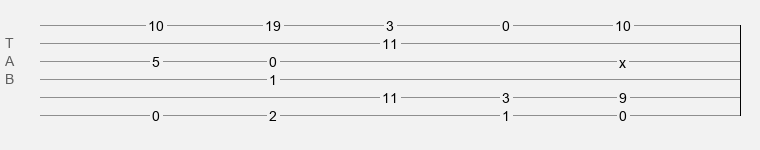0: (152, 108, 160, 118), (269, 54, 277, 64), (502, 18, 510, 28), (619, 108, 627, 118)
1: (269, 72, 277, 82), (502, 108, 510, 118)
10: (148, 18, 164, 28), (615, 18, 631, 28)
11: (382, 90, 398, 100), (382, 36, 398, 46)
19: (265, 18, 281, 28)
2: (269, 108, 277, 118)
3: (386, 18, 394, 28), (502, 90, 510, 100)
5: (152, 54, 160, 64)
9: (619, 90, 627, 100)
x: (619, 55, 626, 63)
